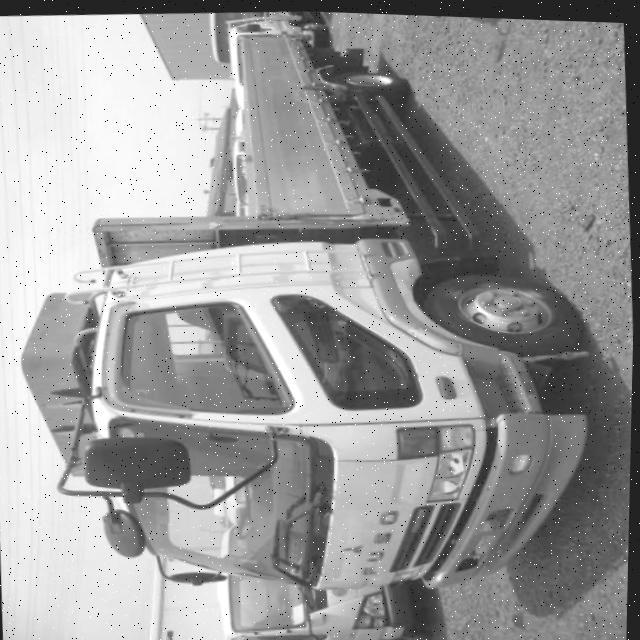truck: (0, 8, 606, 618)
